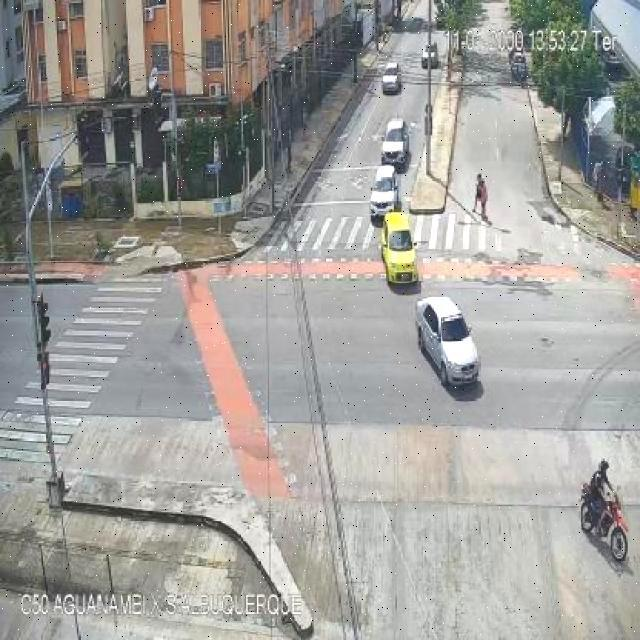Car: (414, 296, 483, 392), (377, 210, 421, 289), (369, 165, 400, 228), (383, 116, 410, 171), (379, 61, 404, 97), (422, 42, 443, 72)
Cycle: (582, 455, 630, 564)
